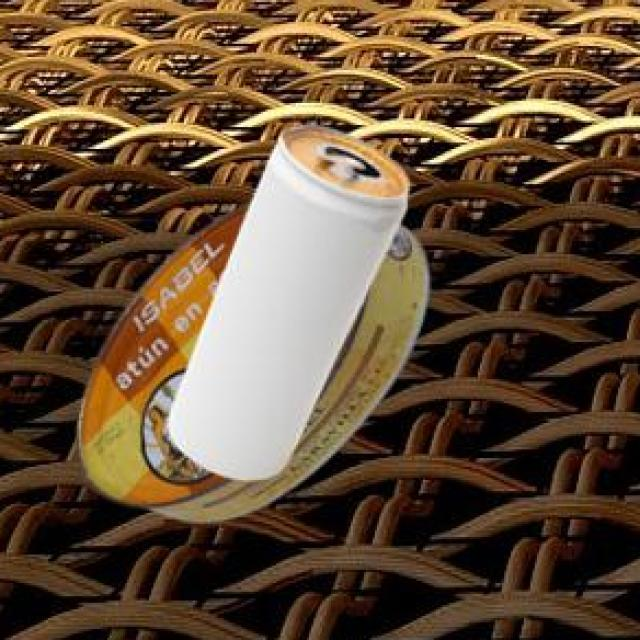logam: (80, 207, 433, 525), (172, 128, 413, 483)
